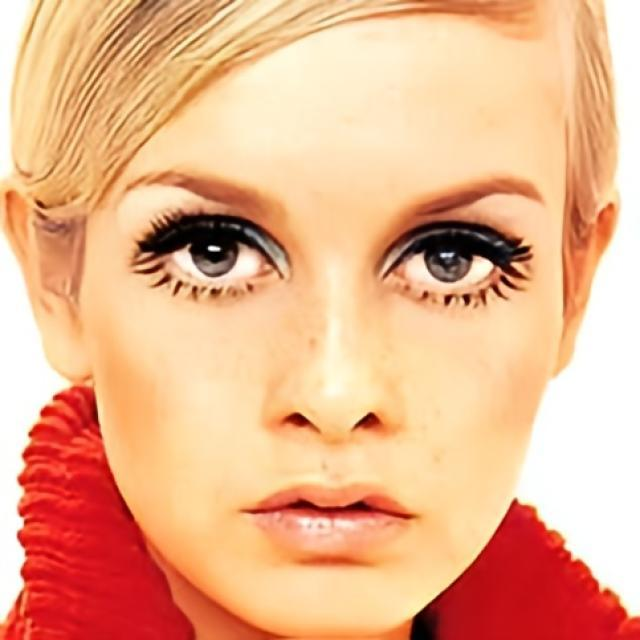neutral: (78, 1, 570, 640)
